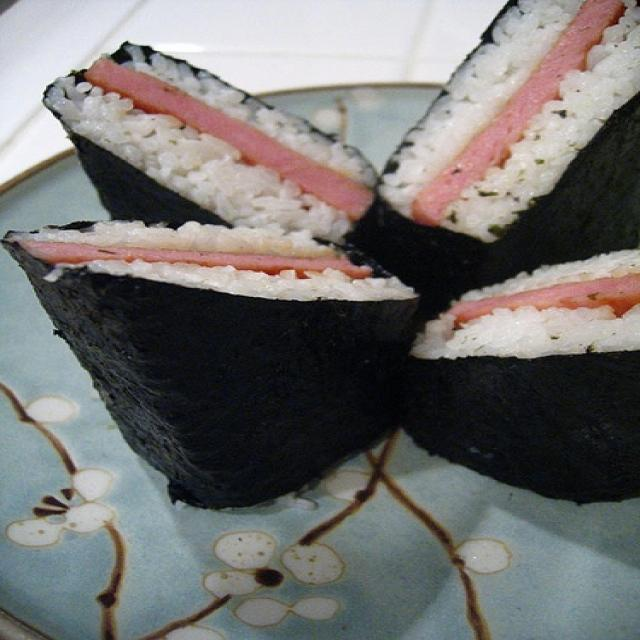寿司卷物: (16, 18, 614, 559)
